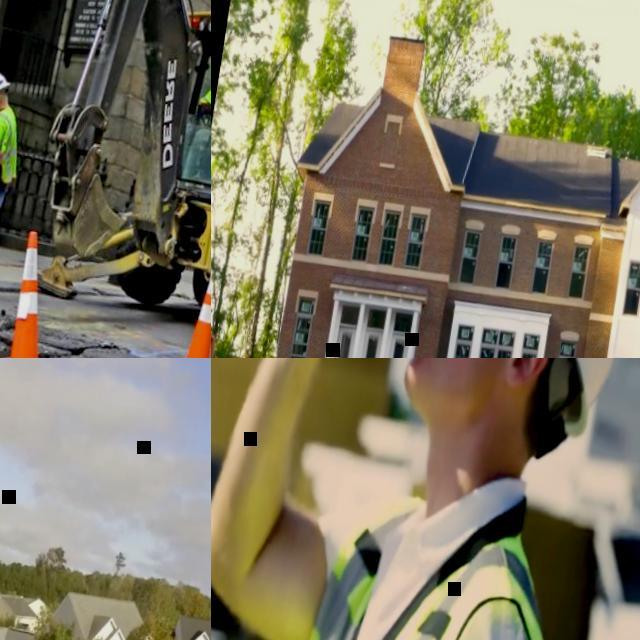helmet: (430, 358, 640, 448), (0, 72, 10, 101)
vest: (296, 466, 579, 640), (0, 102, 24, 195)
